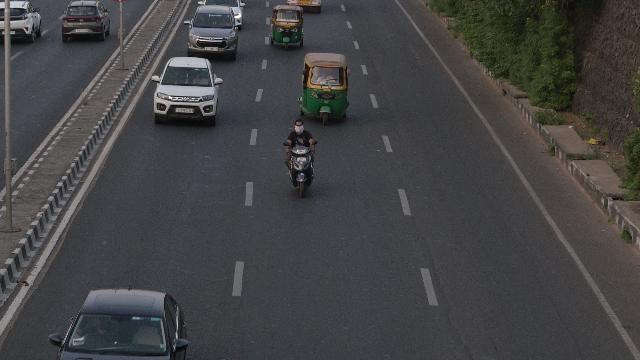Without Helmet: (293, 118, 307, 132)
